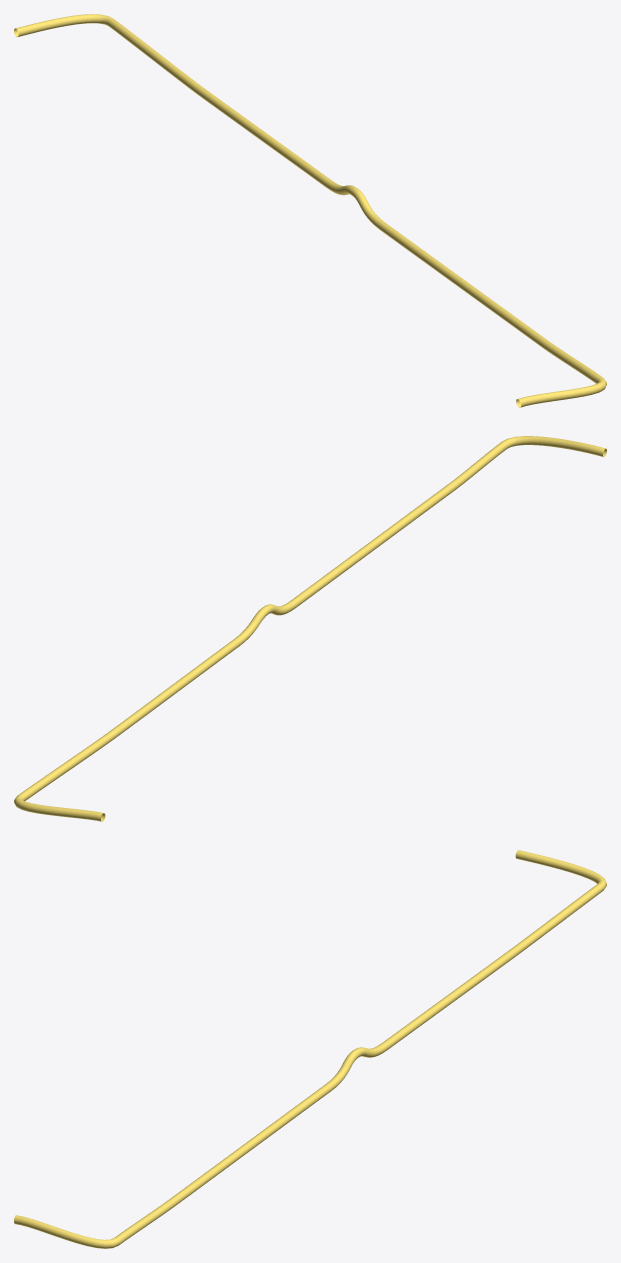
The model's file is Cable.glb.
The picture shows the model from 3 angles, top to bottom: view 1: azimuth 30°, elevation 25°; view 2: azimuth 150°, elevation 25°; view 3: azimuth 330°, elevation 25°; orthographic projection.
Visible parts, largest first — view 1: BezierCurve.004; view 2: BezierCurve.004; view 3: BezierCurve.004.
Part boxes in pixels (x1,y1,x2,y2): BezierCurve.004: (14, 14, 606, 407); BezierCurve.004: (14, 436, 606, 821); BezierCurve.004: (14, 850, 606, 1248).
Size of the model in its own units: 0.2251 by 0.0496 by 2.08.
